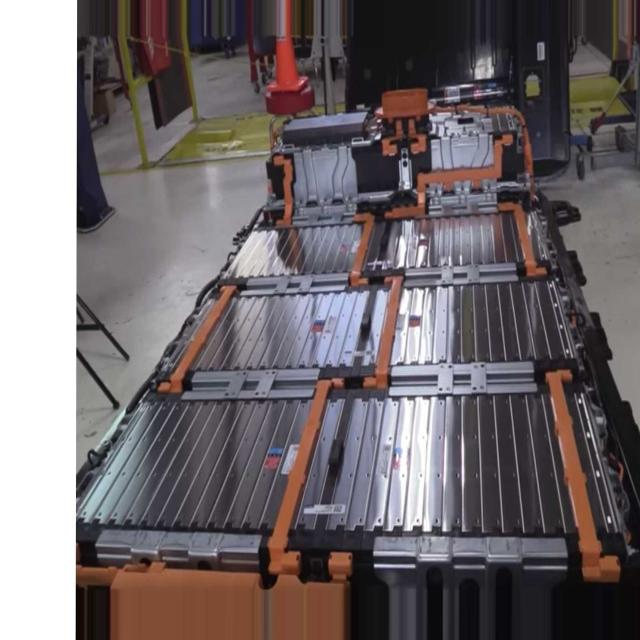Aluminum-frame: (299, 150, 351, 200)
Battery Module: (300, 397, 575, 530), (81, 399, 312, 527), (392, 283, 570, 361), (196, 290, 367, 369), (225, 222, 362, 275), (383, 213, 521, 265)
Bus-bar: (548, 364, 601, 557), (270, 380, 330, 550), (392, 139, 504, 217), (171, 286, 236, 381), (373, 277, 403, 383), (503, 200, 537, 269), (351, 212, 375, 273), (274, 157, 292, 219)
Nut: (441, 123, 451, 146), (460, 122, 469, 142), (480, 122, 490, 140)
Screw: (400, 149, 410, 174)
